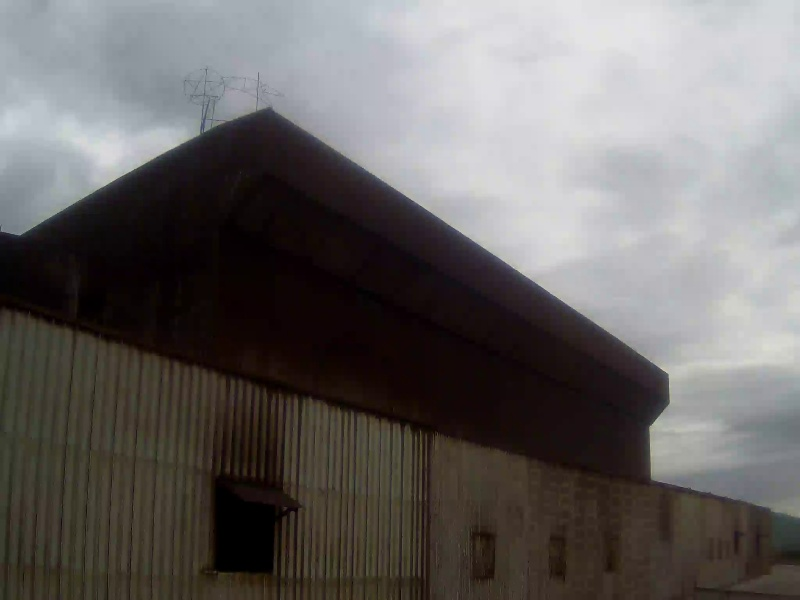bom: (241, 53, 688, 420), (12, 30, 269, 174), (607, 294, 748, 473)
